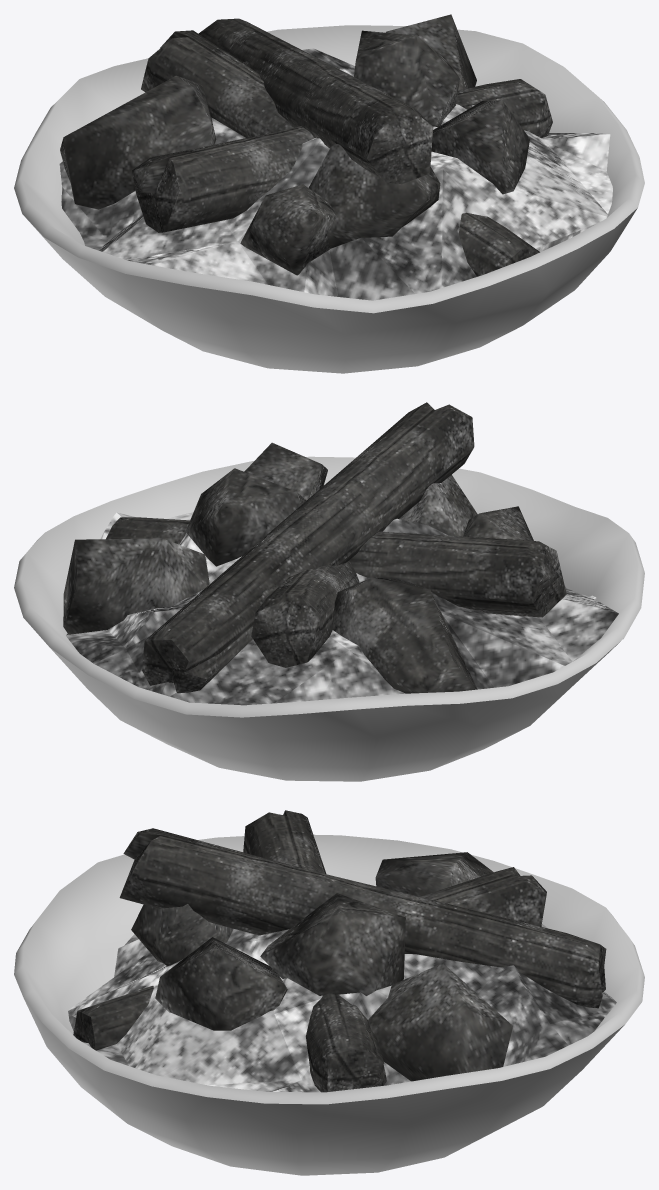
The model's file is SM_Brazier_B.fbx.
3 views of the same model, one above another, from view 1: azimuth 30°, elevation 25°; view 2: azimuth 150°, elevation 25°; view 3: azimuth 270°, elevation 25° (orthographic). The views are drawn at different scales.
Visible parts, largest first — view 1: SM_Brazier_B_LOD0; view 2: SM_Brazier_B_LOD0; view 3: SM_Brazier_B_LOD0.
Part boxes in pixels (x1=…): SM_Brazier_B_LOD0: x1=14, y1=14, x2=644, y2=373; SM_Brazier_B_LOD0: x1=14, y1=402, x2=644, y2=781; SM_Brazier_B_LOD0: x1=14, y1=810, x2=644, y2=1175.
Bounding box in the file's own units: 34.95 × 34.95 × 16.88.
2 materials, 1 textured.
